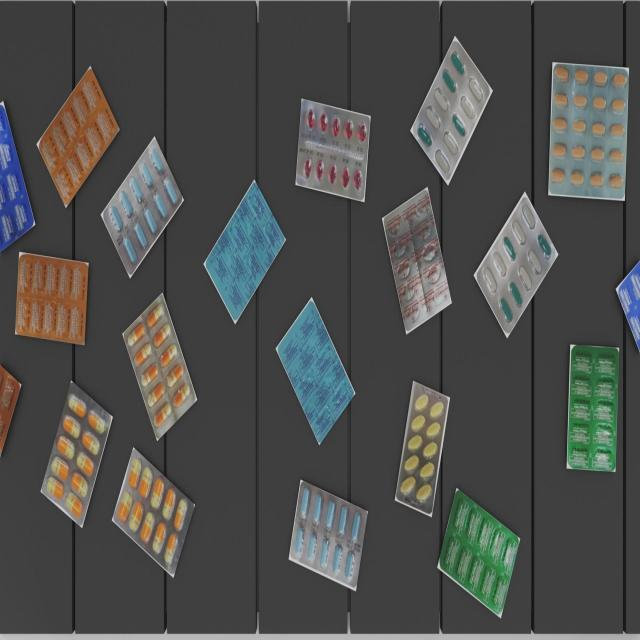blister: (121, 290, 197, 448), (548, 59, 630, 202), (102, 136, 184, 278), (110, 444, 198, 576), (476, 195, 556, 338), (39, 68, 120, 209), (203, 183, 285, 321), (277, 298, 353, 445), (40, 378, 111, 527), (414, 42, 489, 182), (438, 487, 520, 612), (383, 188, 453, 332), (288, 475, 368, 590), (294, 97, 370, 199), (13, 250, 91, 346), (398, 382, 449, 516), (567, 342, 620, 470), (0, 96, 35, 252), (0, 357, 22, 465)
